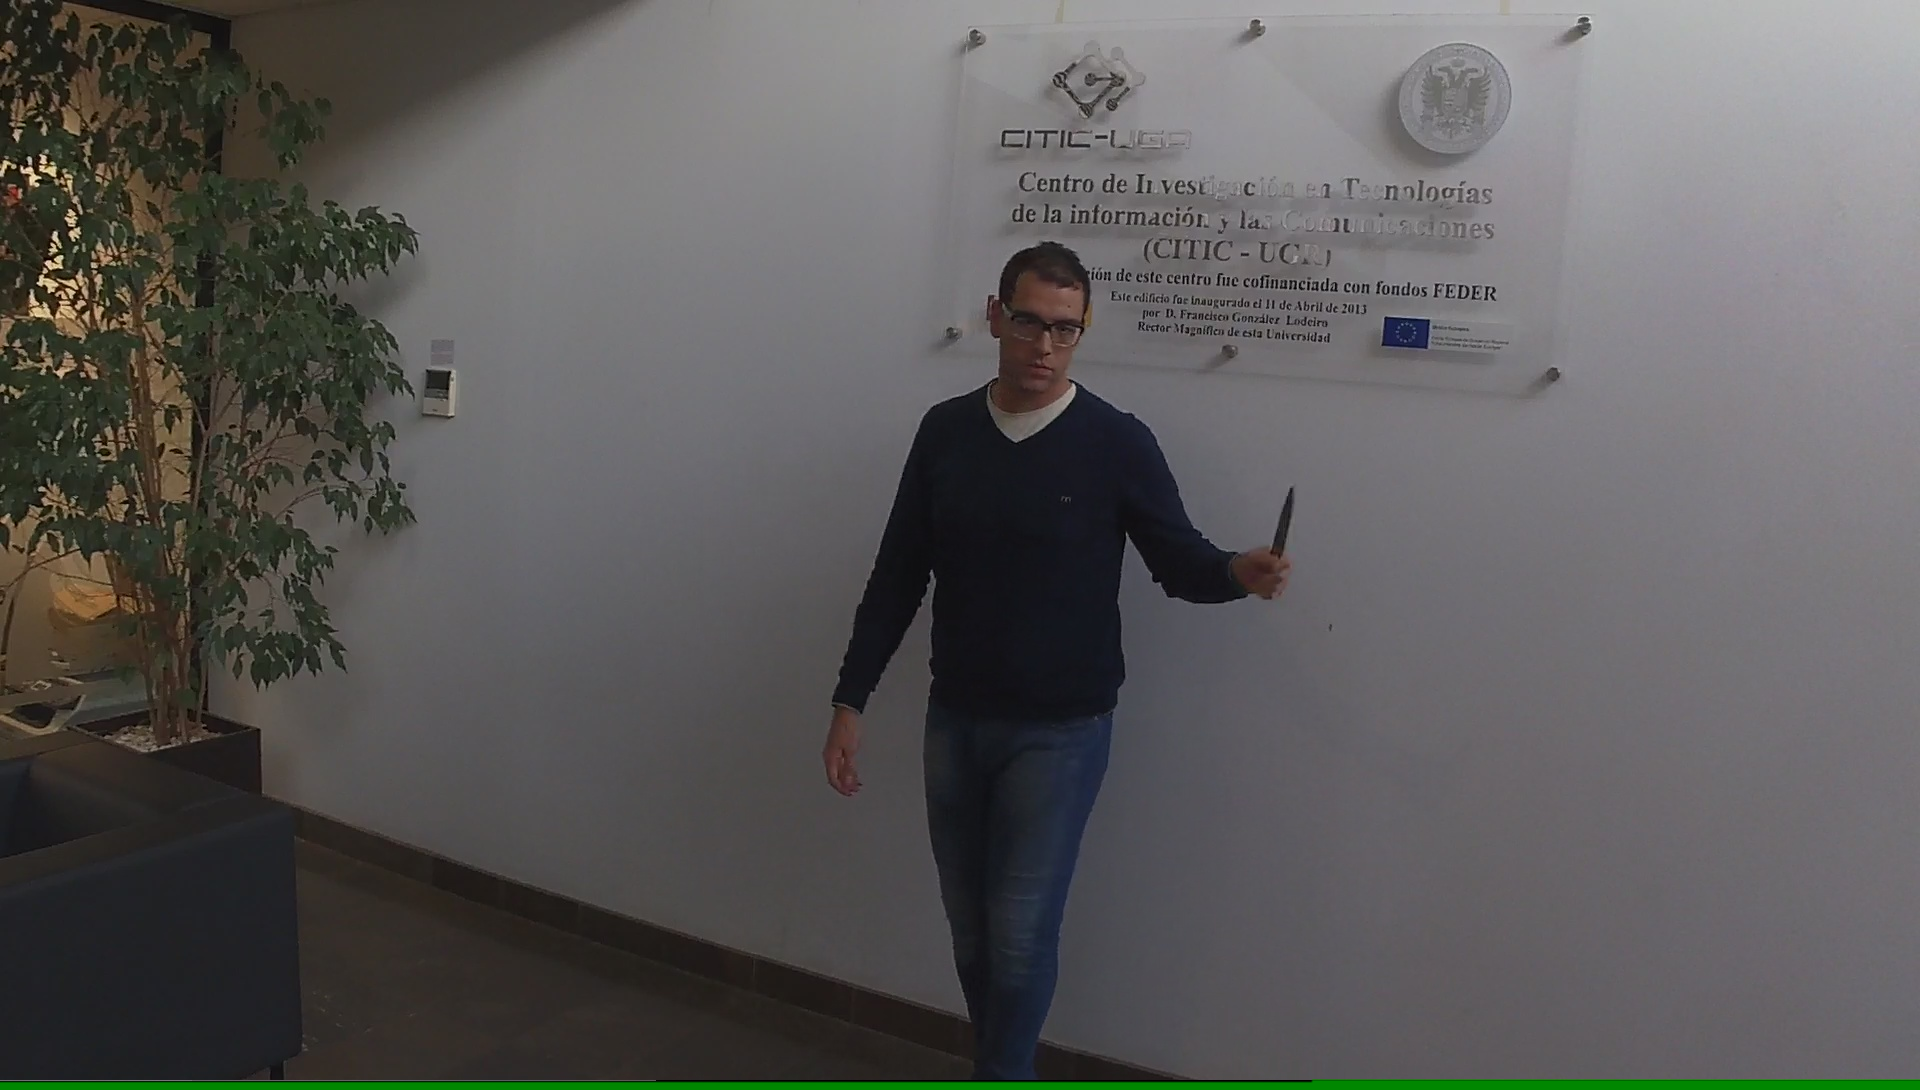knife: (1255, 478, 1303, 610)
